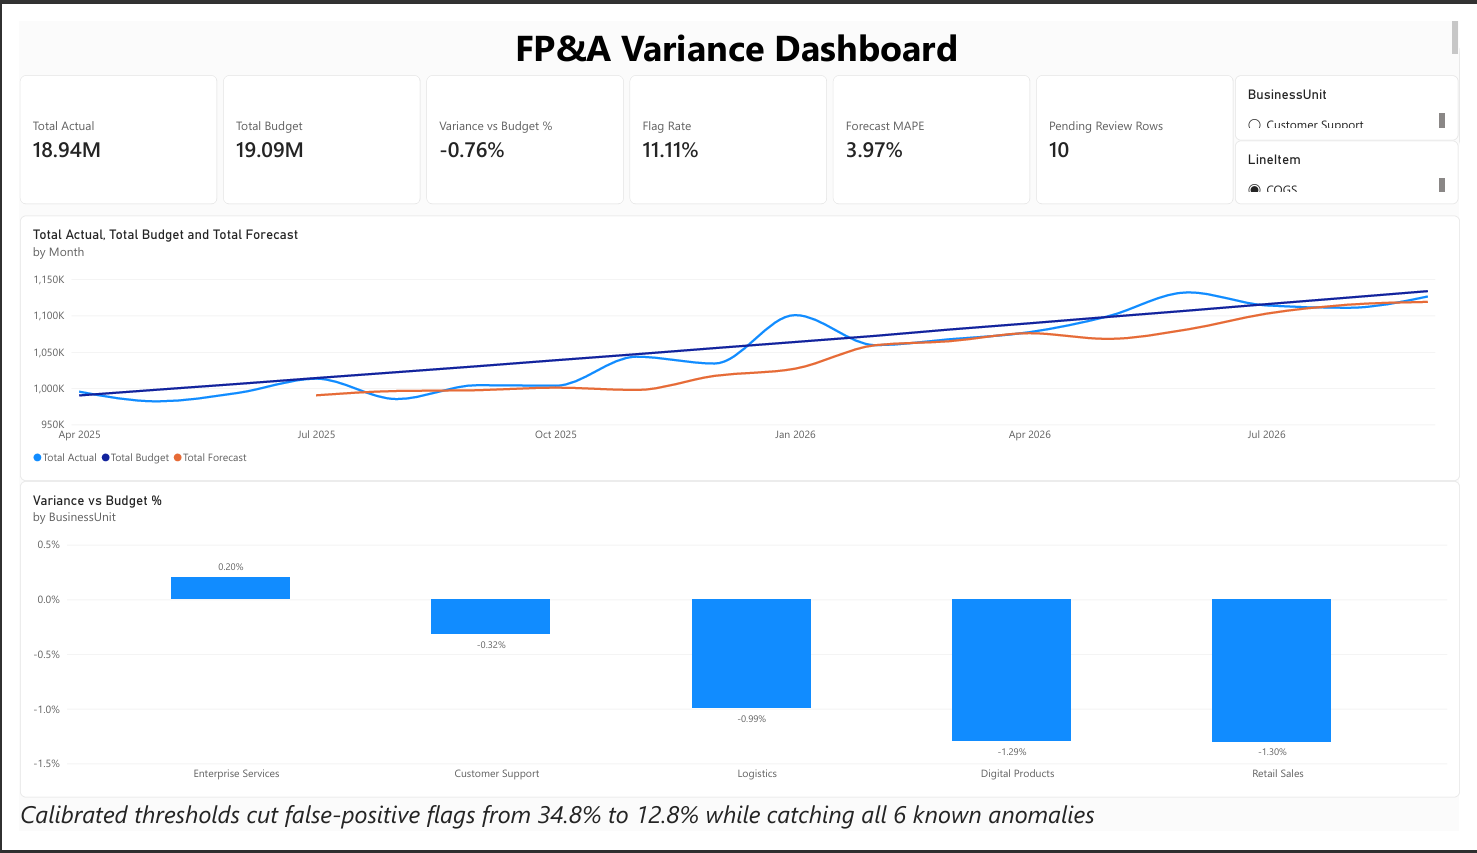

Layout of this report page (visuals, bound fields, positions):
{"tool":"powerbi","page":{"name":"Executive Scorecard","canvas":[1920,1080],"ordinal":0},"visuals":[{"type":"cardVisual","fields":{"Data":["Variance.Total Actual","Variance.Total Budget","Variance.Variance vs Budget %","Variance.Flag Rate","Variance.Forecast MAPE","Variance.Pending Review Rows"]},"box":[0,71,1620,172.3],"z":0},{"type":"lineChart","fields":{"Category":["Variance.Month"],"Y":["Variance.Total Actual","Variance.Total Budget","Variance.Total Forecast"]},"box":[0,257.5,1920.1,354.8],"z":1000},{"type":"clusteredColumnChart","fields":{"Category":["Variance.BusinessUnit"],"Y":["Variance.Variance vs Budget %"]},"box":[0,612.3,1920.1,421.7],"z":2000},{"type":"listSlicer","fields":{"Values":["Variance.BusinessUnit"]},"box":[1620,71,298.1,87.2],"z":3000},{"type":"listSlicer","fields":{"Values":["Variance.LineItem"]},"box":[1620,158.2,298.1,85.2],"z":4000},{"type":"textbox","box":[0,0,1918.1,52.7],"z":5000},{"type":"textbox","box":[0,1033.4,1862.5,45.4],"z":6000}]}

Visuals, with their boxes in screenshot pixels (x1, y1, x2, y2), scaled from the page's 1920x1080 canvas onto the 1477x853 screenshot:
cardVisual - Variance.Total Actual x Variance.Total Budget: l=0, t=56, r=1246, b=192
lineChart - Variance.Month x Variance.Total Actual: l=0, t=203, r=1476, b=484
clusteredColumnChart - Variance.BusinessUnit x Variance.Variance vs Budget %: l=0, t=484, r=1476, b=817
listSlicer - Variance.BusinessUnit: l=1246, t=56, r=1476, b=125
listSlicer - Variance.LineItem: l=1246, t=125, r=1476, b=192
textbox: l=0, t=0, r=1476, b=42
textbox: l=0, t=816, r=1433, b=852
